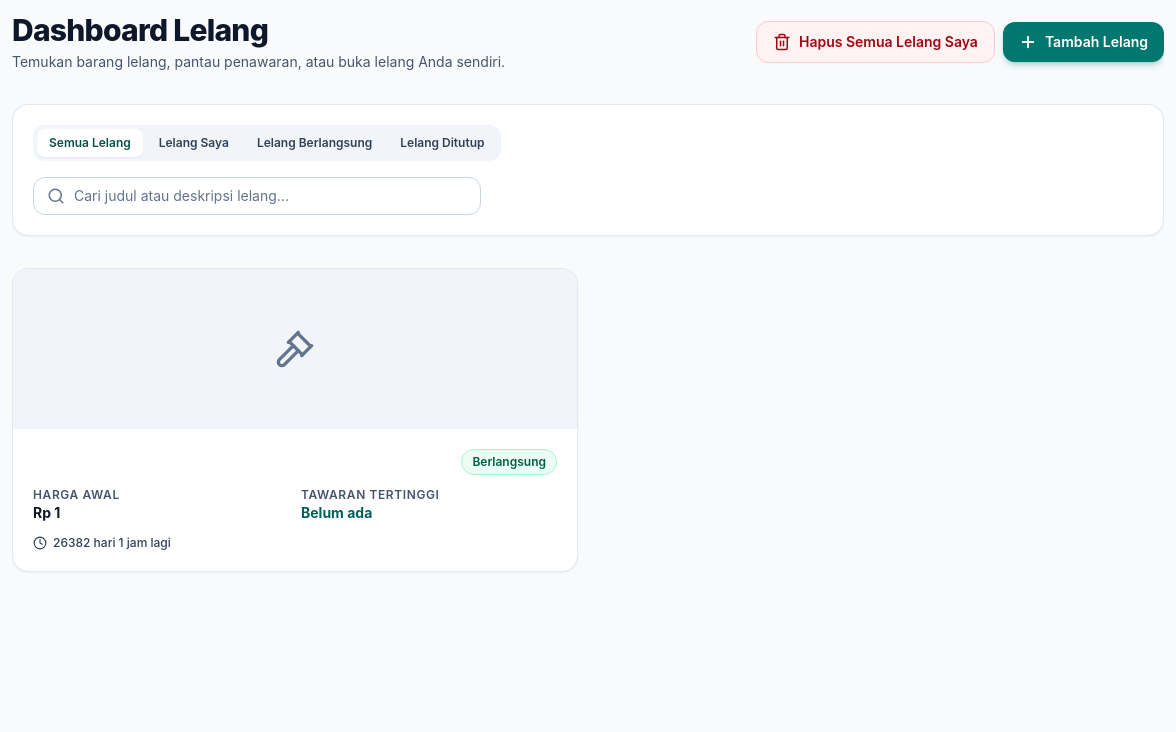
Test: HomePage › should handle aucations missing title and description when searching
The width and height of the screenshot is (1176, 732).
Type "x" into the search field with test id "search-aucation-input". click: (257, 196)
box: x1=33 y1=177 x2=481 y2=215
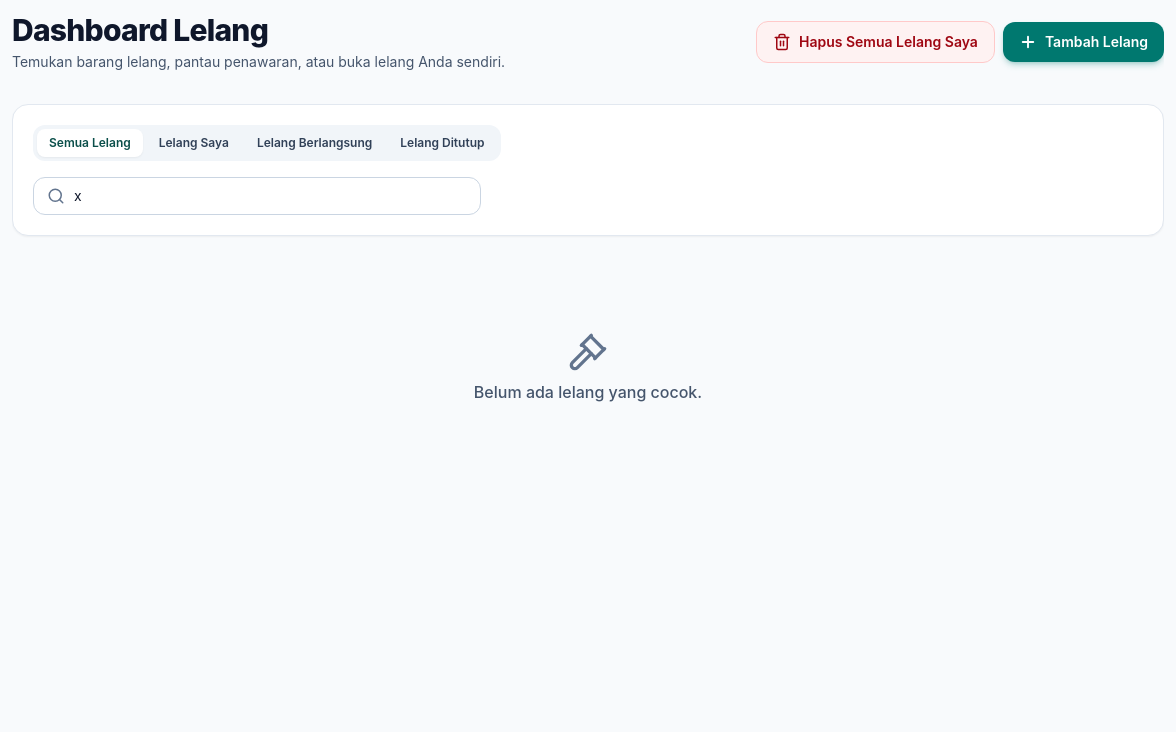
Check: the text "Belum ada lelang yang cocok." is shown, box x1=474 y1=382 x2=702 y2=402
